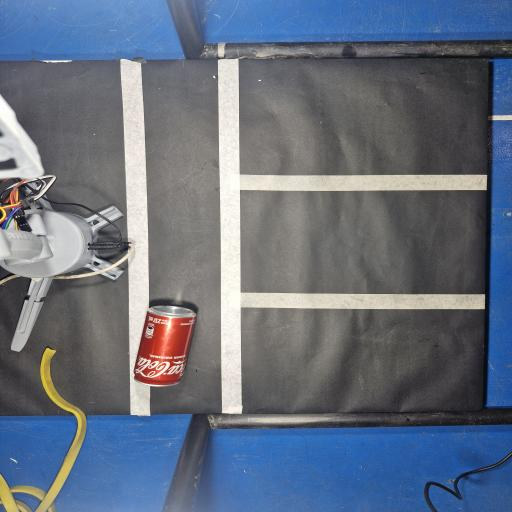lata: (134, 306, 196, 386)
